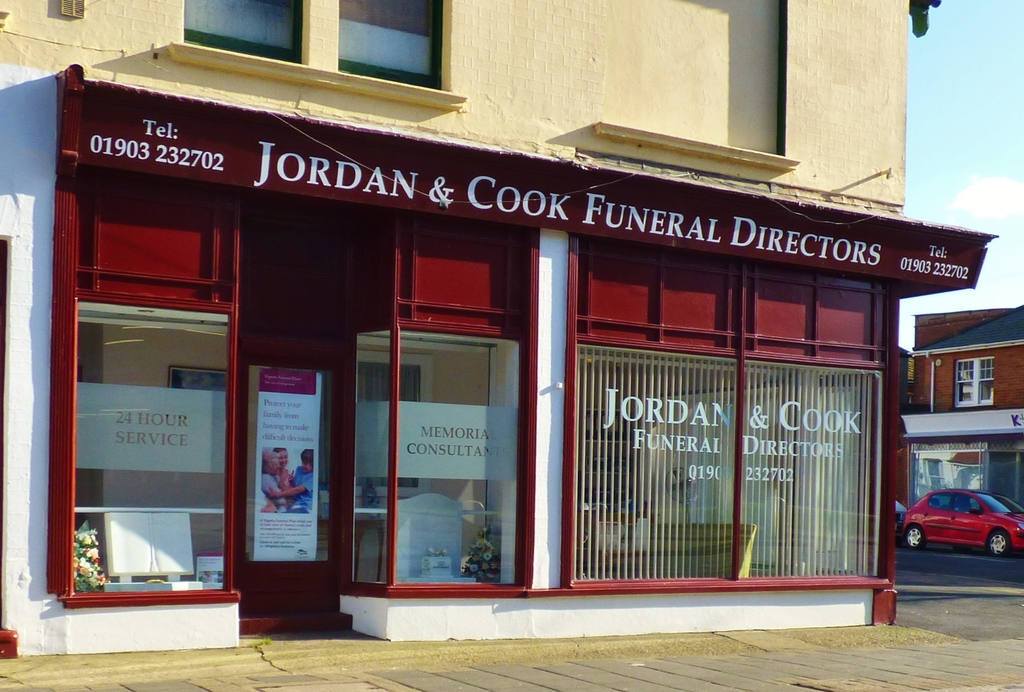Car: (901, 487, 1022, 571)
